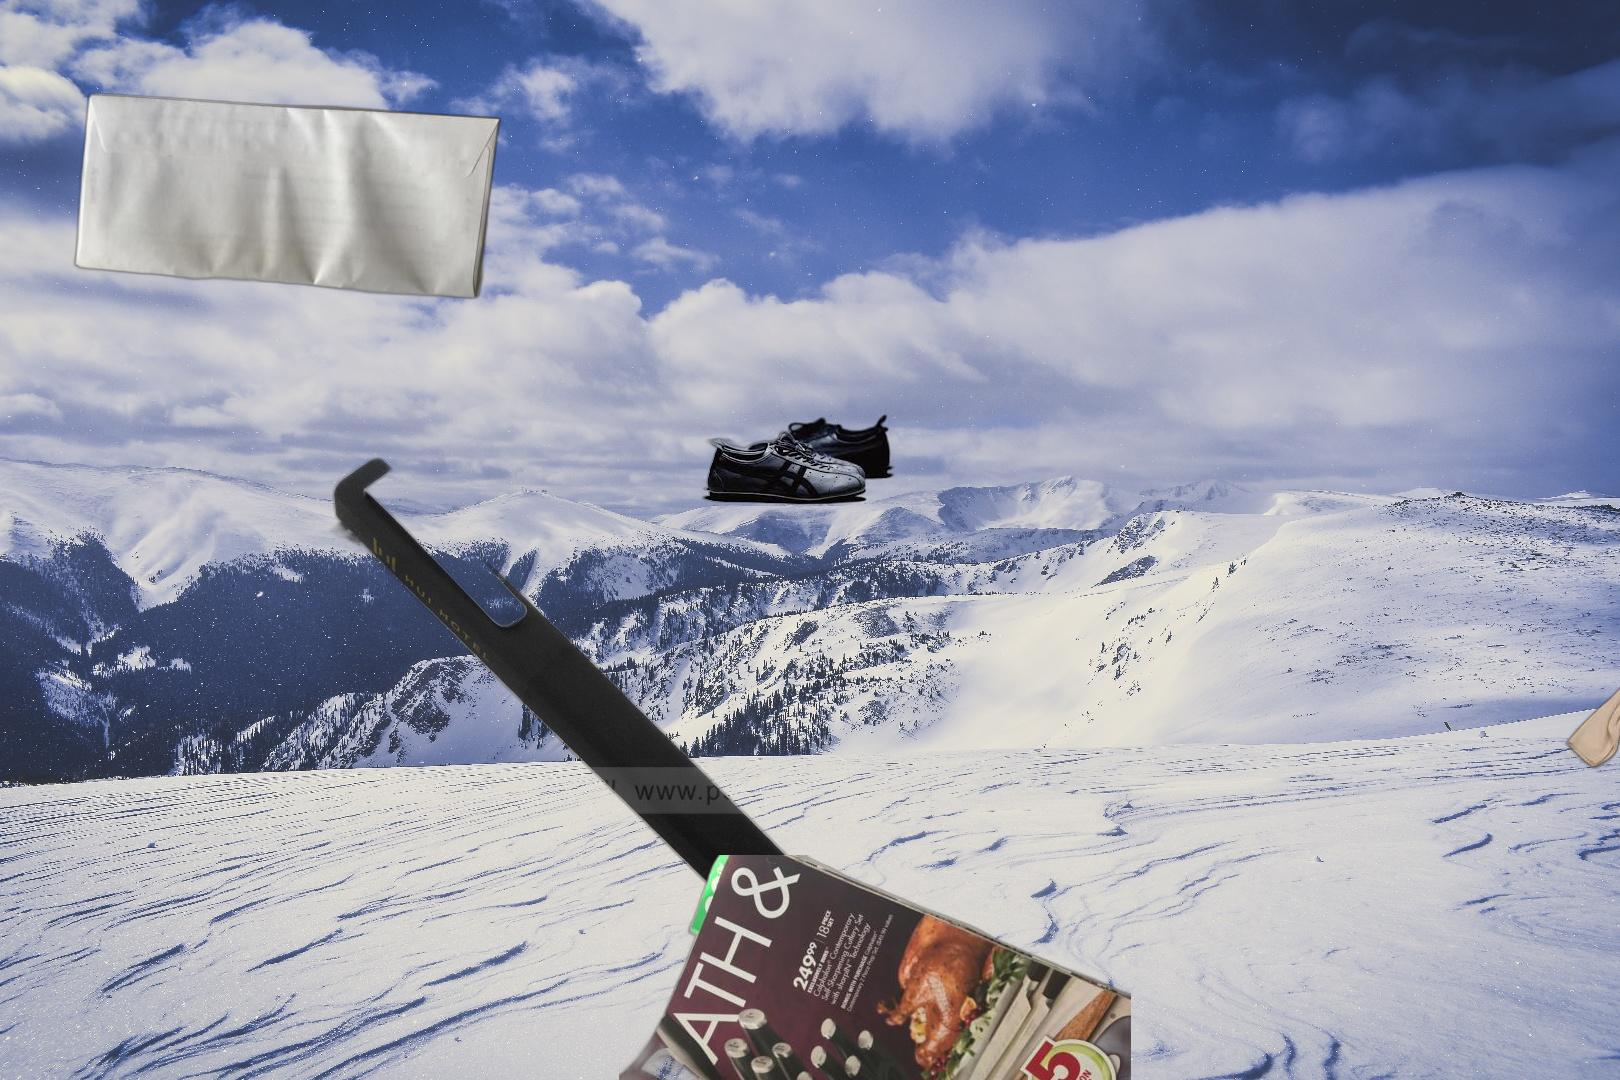clothes: (1565, 633, 1620, 885)
paper: (620, 855, 1131, 1080), (70, 90, 504, 301)
penholder: (325, 453, 1009, 1080)
shoes: (700, 412, 897, 507), (799, 1057, 963, 1080)
